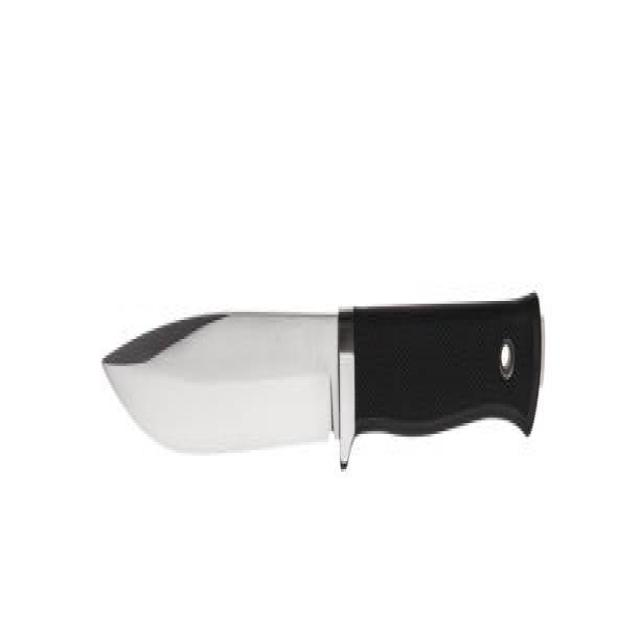knife: (99, 290, 552, 497)
